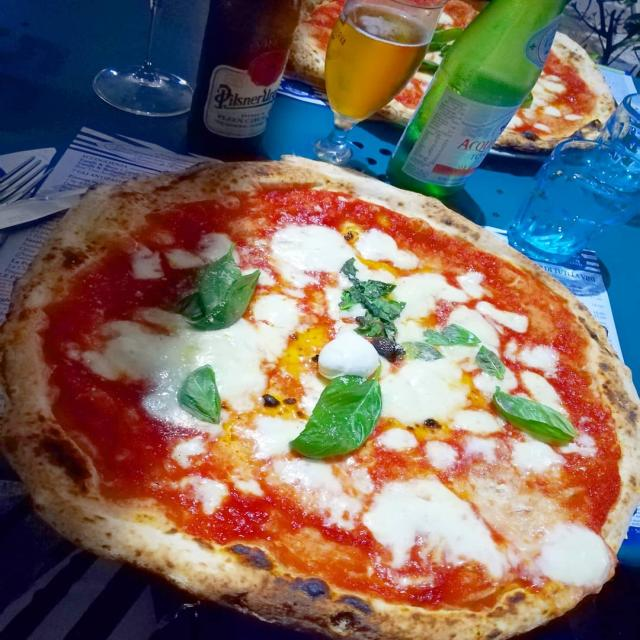basil: (288, 360, 386, 462), (178, 240, 261, 334), (338, 253, 407, 355), (486, 380, 578, 447), (174, 360, 227, 427), (423, 318, 482, 350), (472, 346, 508, 380), (401, 339, 446, 364)
pizza: (3, 157, 638, 640)
